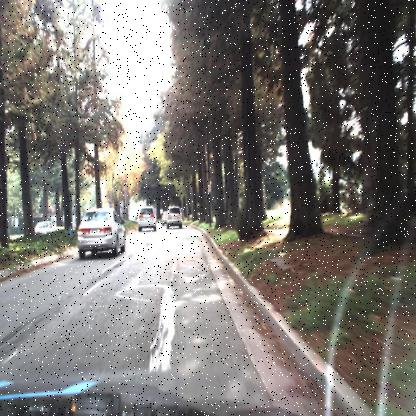car: (78, 207, 126, 257), (134, 202, 160, 236), (165, 205, 187, 232), (137, 204, 156, 232), (33, 220, 56, 236), (159, 209, 169, 230)
